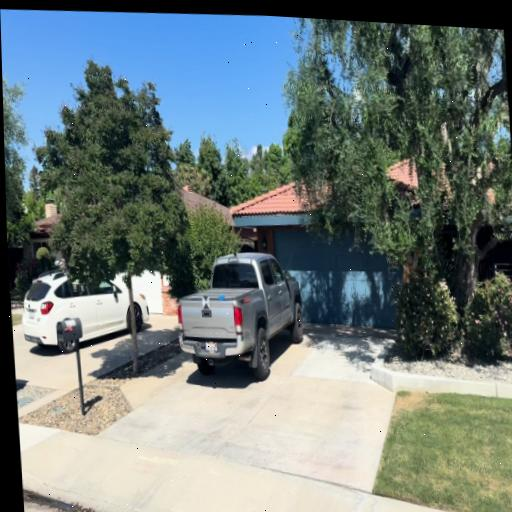target1: (202, 294, 209, 308)
